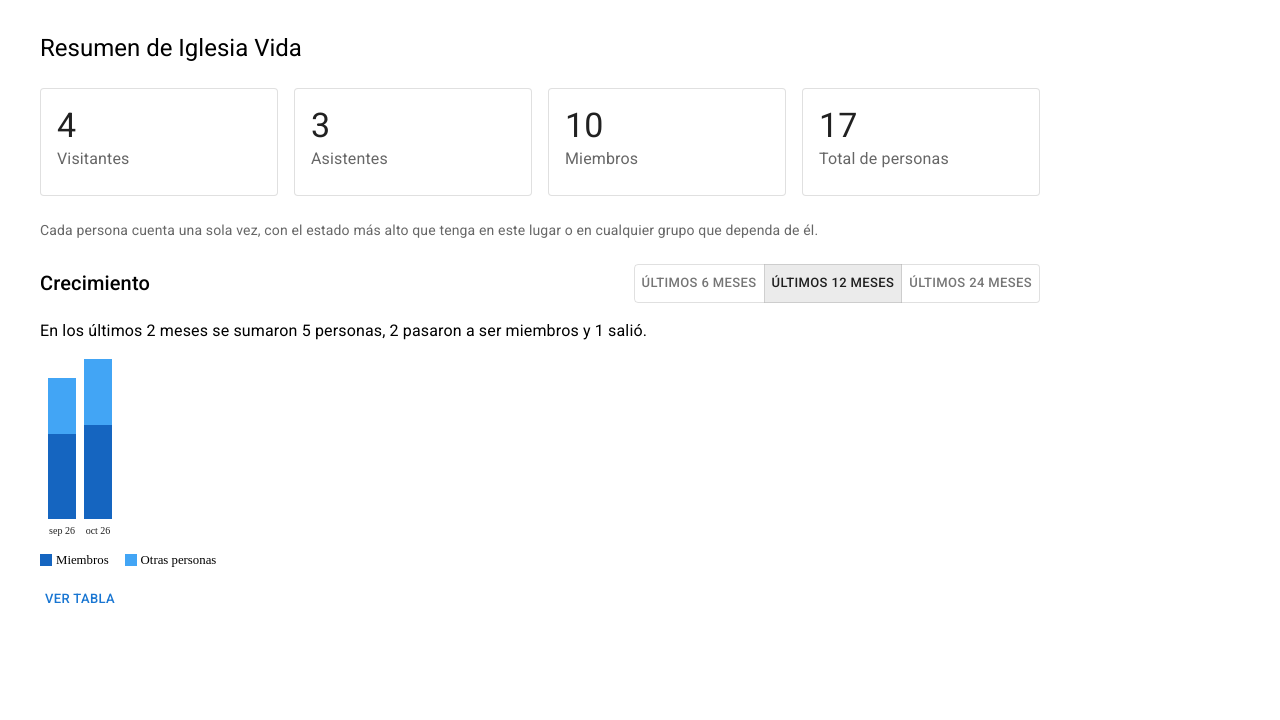
Test case: GrowthDashboard › opens the table with the numbers of each month
Step 1. Click the button "Ver tabla" → (80, 599), box [40,584,120,615]
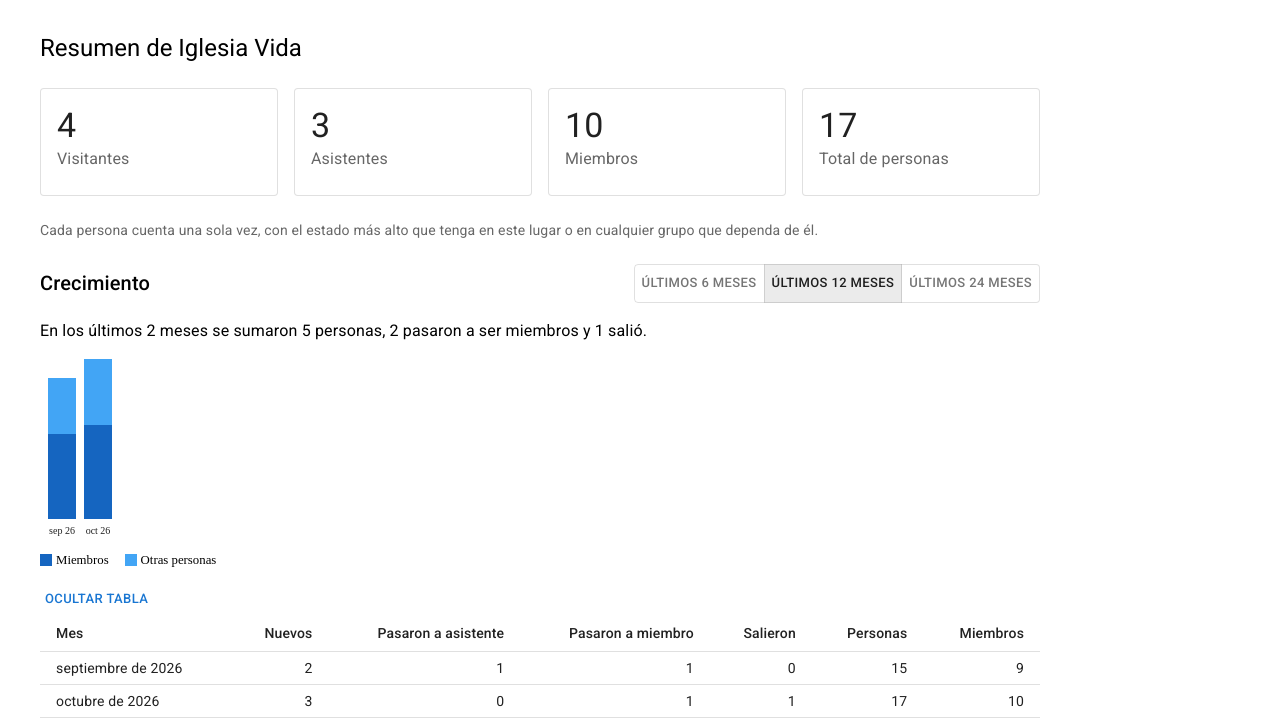
Check: the table named "Movimiento mes a mes" is shown, box [40,614,1040,718]
Check: the column heading "octubre de 2026" is shown, box [40,684,232,717]
